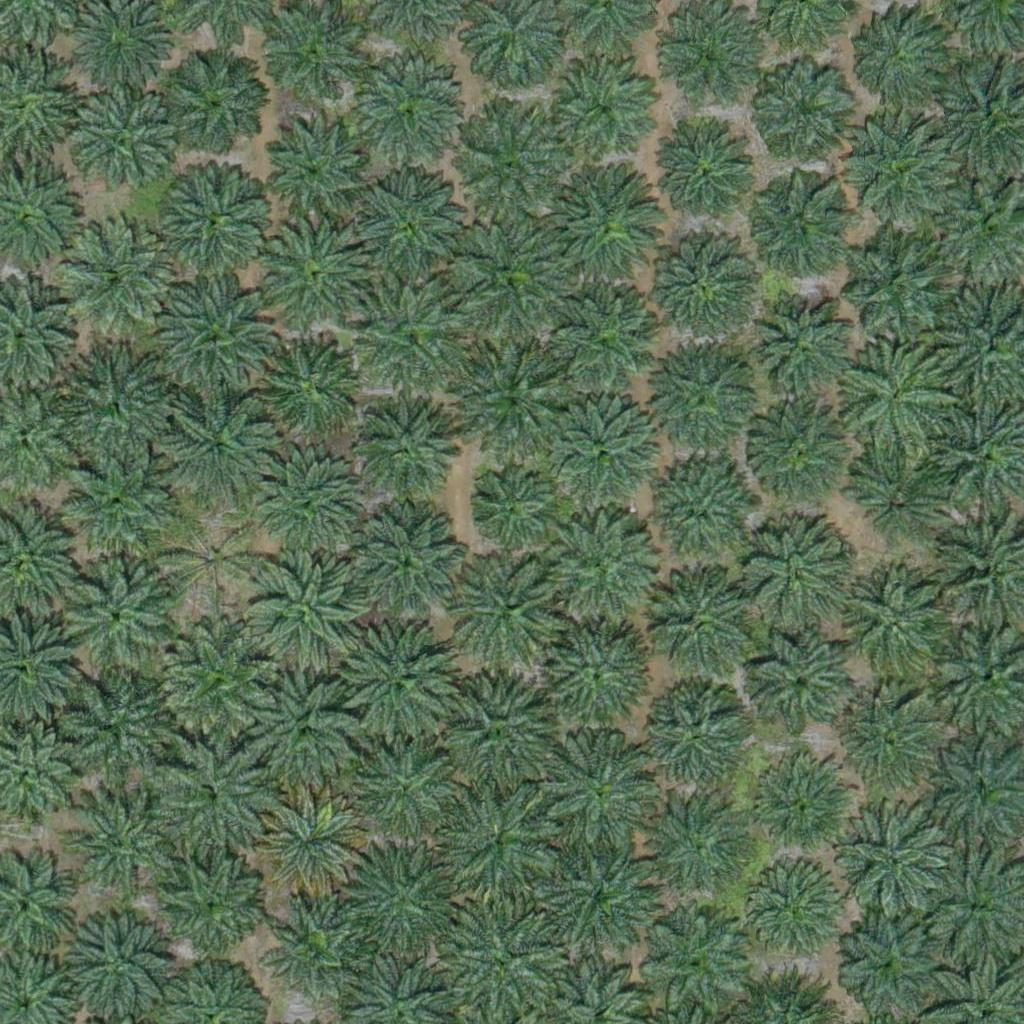Kelapa_Sawit: (537, 284, 662, 410), (451, 341, 576, 467), (435, 782, 560, 908), (551, 54, 664, 168), (544, 167, 657, 281), (546, 619, 659, 733), (452, 553, 565, 667), (538, 734, 651, 848), (256, 216, 369, 330), (351, 506, 464, 620), (846, 113, 959, 226), (452, 111, 565, 224), (265, 116, 378, 229), (158, 162, 271, 275), (840, 573, 953, 686), (743, 402, 856, 515), (738, 524, 851, 637), (645, 232, 758, 345), (646, 345, 759, 458), (835, 804, 948, 917), (545, 840, 658, 953), (438, 678, 551, 791), (339, 623, 452, 736), (56, 671, 169, 784), (64, 563, 177, 676), (60, 446, 173, 559), (54, 348, 167, 461), (160, 624, 273, 737), (354, 276, 467, 389), (254, 789, 367, 902), (156, 742, 269, 855), (152, 847, 265, 960), (635, 901, 747, 1015), (60, 217, 172, 331), (160, 277, 272, 391), (255, 454, 367, 568), (648, 1, 760, 114), (256, 4, 368, 117), (352, 65, 464, 178), (356, 167, 468, 280), (69, 91, 181, 204), (843, 232, 955, 345), (644, 463, 756, 576), (641, 571, 753, 684), (545, 399, 657, 512), (544, 510, 656, 623), (453, 221, 565, 334), (351, 733, 463, 846), (341, 842, 453, 955), (162, 389, 274, 502), (247, 673, 359, 786), (248, 551, 360, 664), (64, 787, 176, 900), (163, 511, 263, 612), (851, 7, 951, 108), (757, 57, 857, 158), (166, 54, 266, 155), (846, 349, 946, 450), (852, 443, 952, 544), (840, 690, 940, 791), (746, 179, 846, 280), (757, 296, 857, 397), (748, 630, 848, 731), (69, 912, 169, 1013), (659, 128, 759, 228), (643, 684, 743, 784), (843, 912, 943, 1012), (748, 756, 848, 856), (744, 863, 844, 963), (649, 795, 749, 895), (258, 338, 358, 438), (357, 396, 457, 496), (272, 904, 359, 993), (471, 472, 546, 548)
